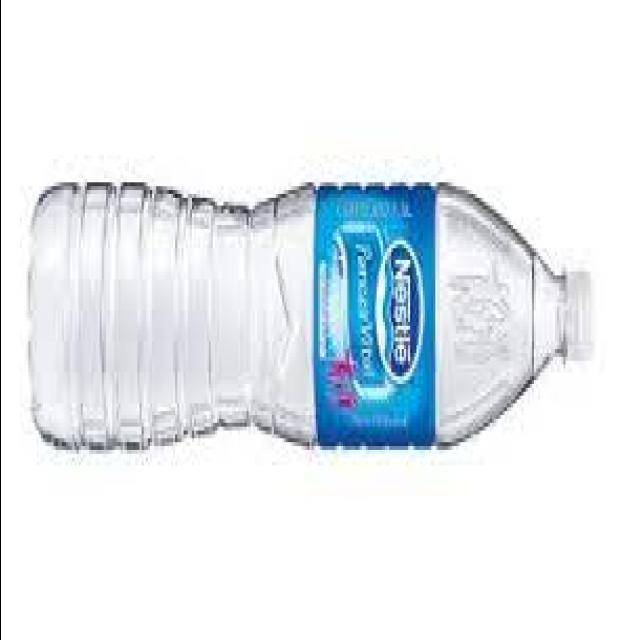bottle: (31, 185, 590, 448)
